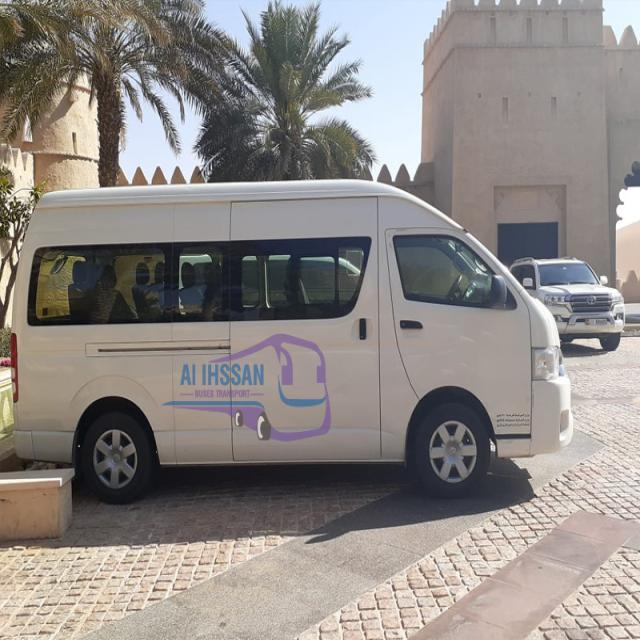car: (11, 176, 574, 497), (515, 254, 624, 355)
